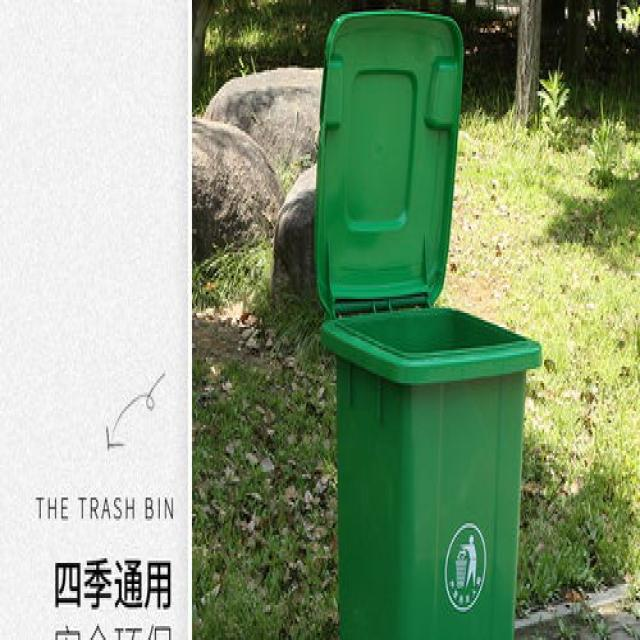garbage_bin: (320, 306, 540, 638)
